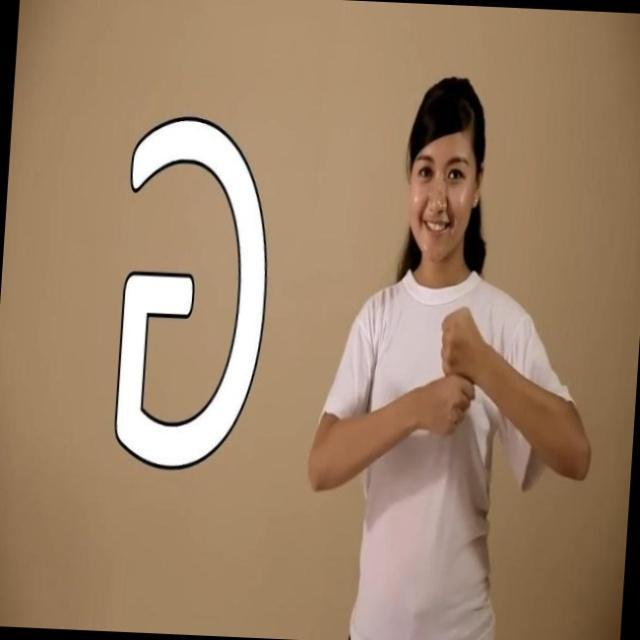G: (404, 300, 504, 456)
